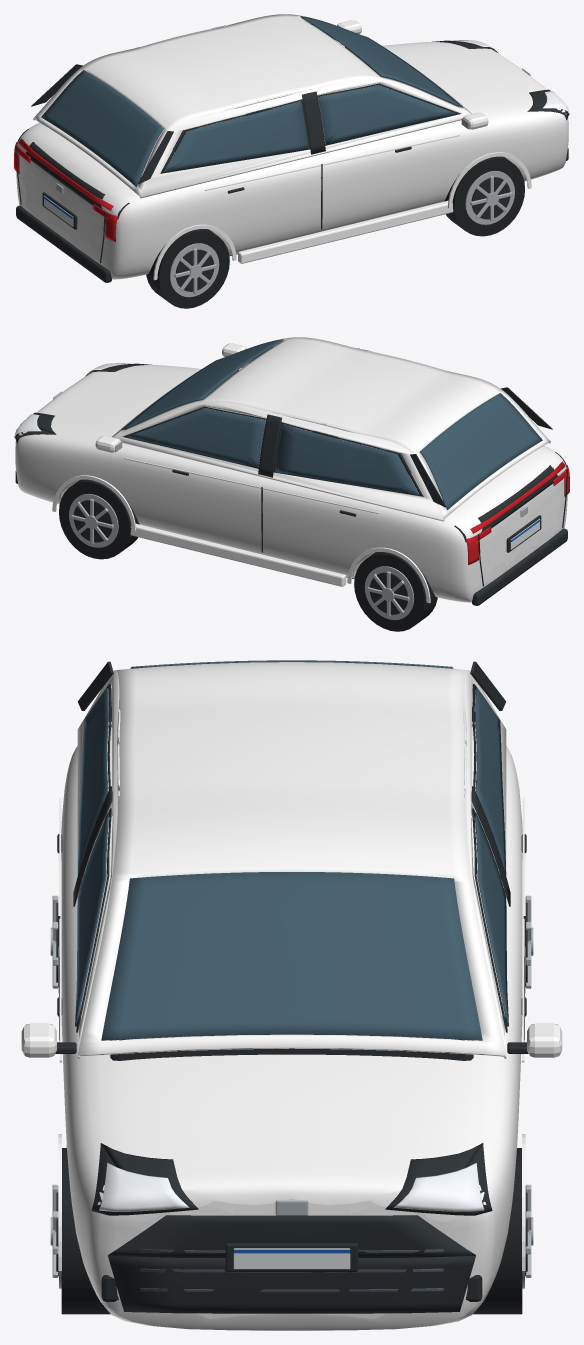
File: hyundai-hb20.glb
The picture shows the model from 3 angles, top to bottom: view 1: azimuth 30°, elevation 25°; view 2: azimuth 150°, elevation 25°; view 3: azimuth 270°, elevation 25°; orthographic projection. The views are drawn at different scales.
Visible parts, largest first — view 1: FleetBody, FleetGlass, FleetTrim, FleetRubber, FleetLights; view 2: FleetBody, FleetGlass, FleetTrim, FleetRubber, FleetLights; view 3: FleetBody, FleetGlass, FleetTrim, FleetLights, FleetRubber, FleetInterior.
Boxes of the visible parts, x1,y1,x2,y2 form: FleetBody: [16, 14, 568, 280]; FleetGlass: [41, 16, 463, 187]; FleetTrim: [16, 23, 568, 297]; FleetRubber: [146, 156, 524, 308]; FleetLights: [14, 40, 569, 241]; FleetBody: [15, 337, 567, 603]; FleetGlass: [121, 339, 542, 510]; FleetTrim: [15, 346, 567, 620]; FleetRubber: [59, 479, 437, 631]; FleetLights: [14, 363, 569, 564]; FleetBody: [21, 662, 562, 1330]; FleetGlass: [75, 660, 508, 1040]; FleetTrim: [26, 661, 557, 1313]; FleetLights: [99, 1162, 484, 1269]; FleetRubber: [61, 1148, 522, 1314]; FleetInterior: [110, 1034, 473, 1060].
Bounding box in the file's own units: 4.01 × 1.47 × 1.99.
